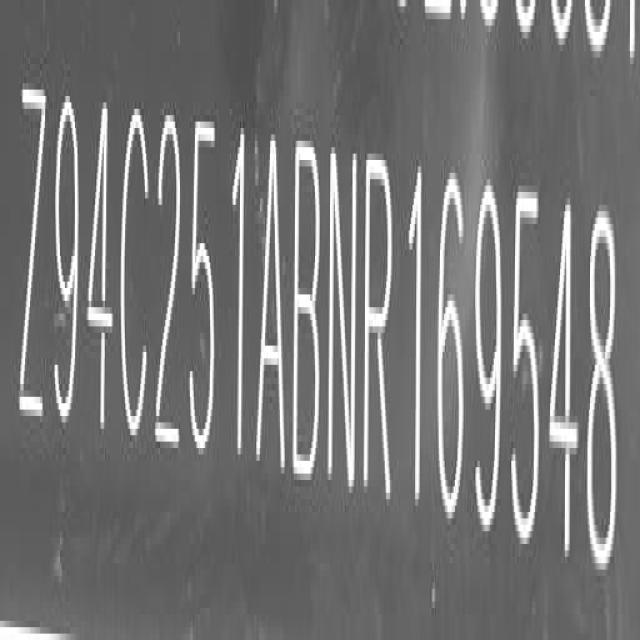1: (408, 152, 427, 522), (230, 122, 246, 472)
2: (153, 107, 181, 463)
4: (551, 190, 583, 570), (87, 91, 116, 446)
5: (512, 177, 542, 563), (191, 107, 219, 466)
6: (437, 161, 466, 527)
8: (589, 198, 623, 577)
9: (473, 173, 505, 541), (52, 82, 80, 442)
A: (257, 124, 287, 478)
B: (294, 131, 325, 489)
C: (119, 98, 150, 450)
N: (329, 140, 359, 498)
R: (365, 143, 397, 508)
Z: (19, 78, 47, 436)
